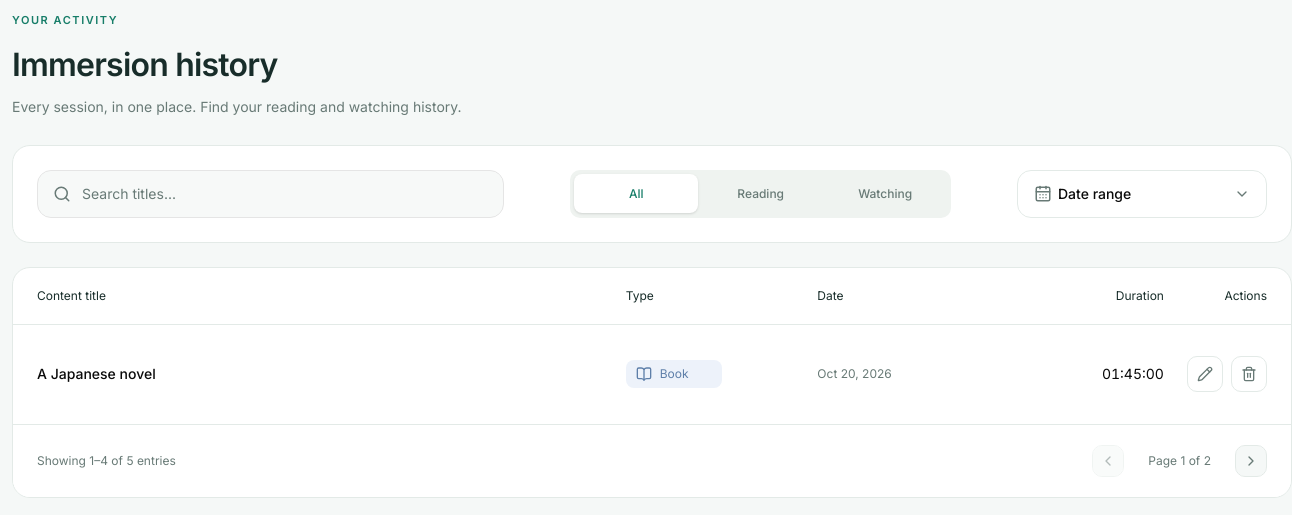
Test: History › offers a way back when an external deletion makes the current page unavailable
Expected: the link "A Japanese novel" is shown, [37, 365, 156, 382]
Click the button named "Next page" at (1251, 461), box [1235, 445, 1267, 477]
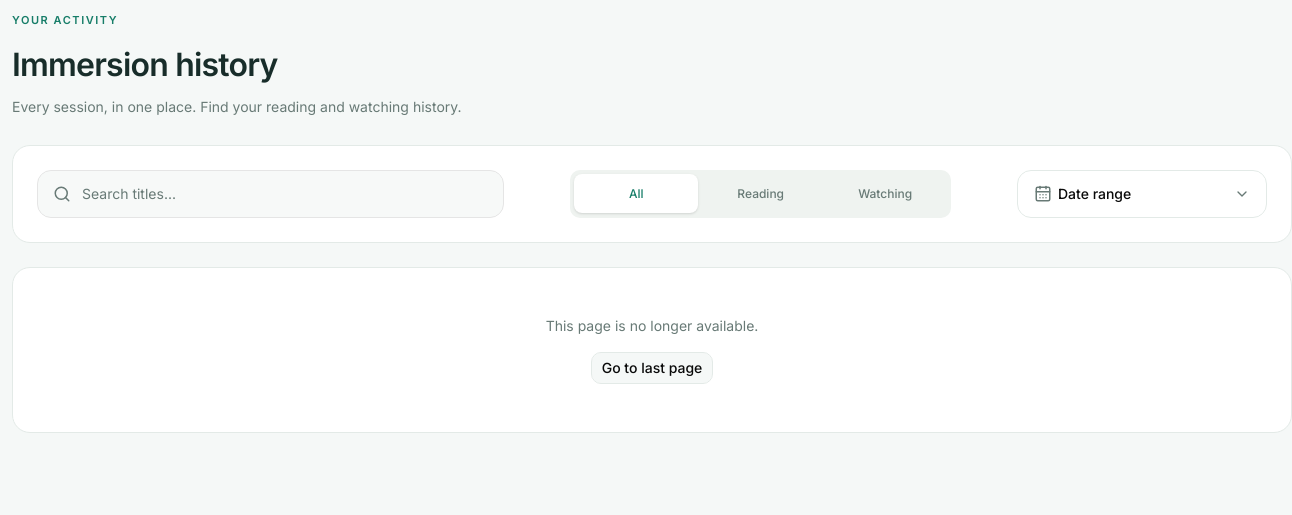
Expected: the text "This page is no longer available." is shown, [546, 316, 758, 336]
Click the button "Go to last page" at (652, 368), box [591, 352, 713, 384]
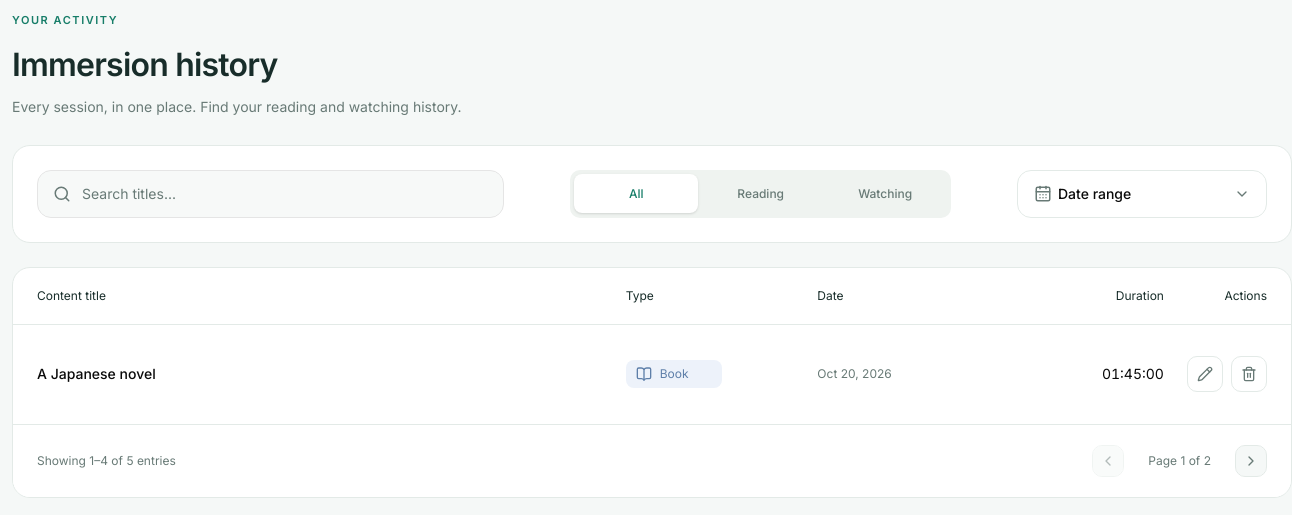
Expected: the link "A Japanese novel" is shown, [37, 365, 156, 382]
